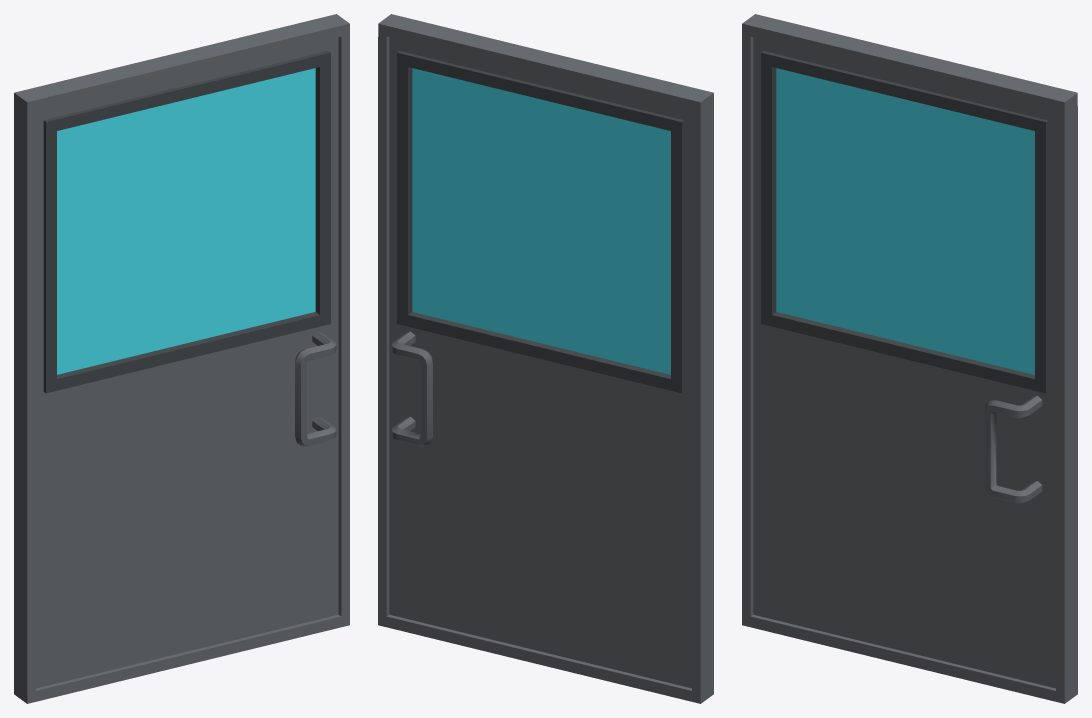
The model's file is SM_Buildings_Warehouse_01_Door.fbx.
3 renders of one model, left to right at view 1: azimuth 30°, elevation 25°; view 2: azimuth 150°, elevation 25°; view 3: azimuth 330°, elevation 25°, orthographic.
Visible parts, largest first — view 1: SM_Buildings_Warehouse_01_Door; view 2: SM_Buildings_Warehouse_01_Door; view 3: SM_Buildings_Warehouse_01_Door.
Boxes of the visible parts, <box> form: SM_Buildings_Warehouse_01_Door: <box>14,14,349,703</box>; SM_Buildings_Warehouse_01_Door: <box>378,14,713,703</box>; SM_Buildings_Warehouse_01_Door: <box>742,14,1077,703</box>.
Bounding box in the file's own units: 1.25 × 2.23 × 0.2975.
